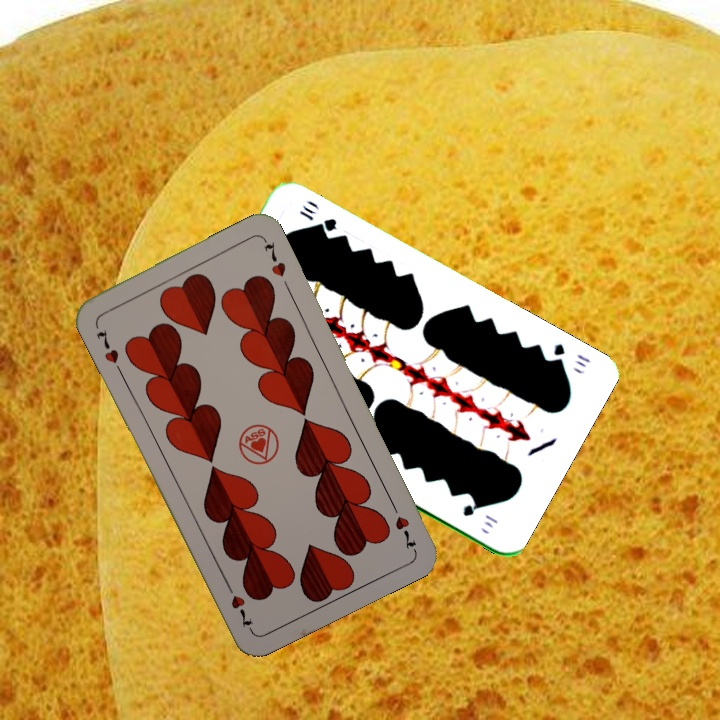G10: (545, 339, 593, 370)
H7: (386, 497, 418, 553), (92, 326, 122, 366)
